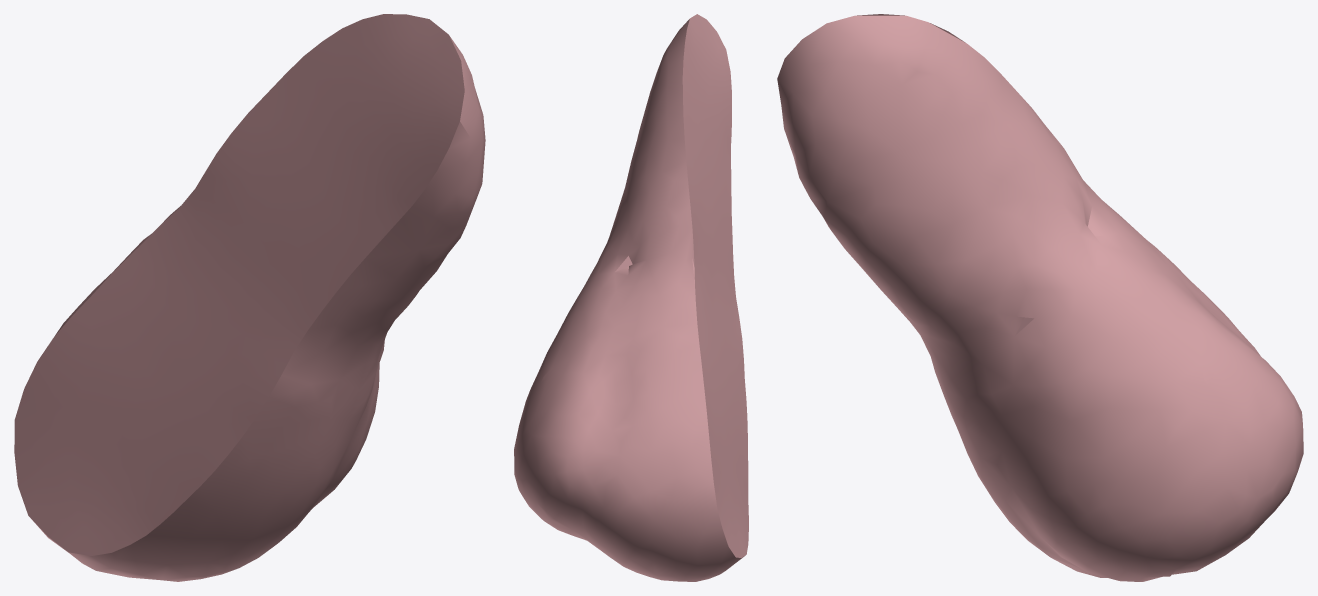
Rendered from fma74868-r_mm2852m.glb.
3 renders of one model, left to right at view 1: azimuth 30°, elevation 25°; view 2: azimuth 150°, elevation 25°; view 3: azimuth 270°, elevation 25°, orthographic. The views are drawn at different scales.
Visible parts, largest first — view 1: FMA74868-R_MM2852M; view 2: FMA74868-R_MM2852M; view 3: FMA74868-R_MM2852M.
Part boxes in pixels (x1,y1,x2,y2): FMA74868-R_MM2852M: (14,14,485,581); FMA74868-R_MM2852M: (514,14,748,581); FMA74868-R_MM2852M: (777,14,1303,581).
Bounding box in the file's own units: 0.00436 × 0.00869 × 0.00683.
